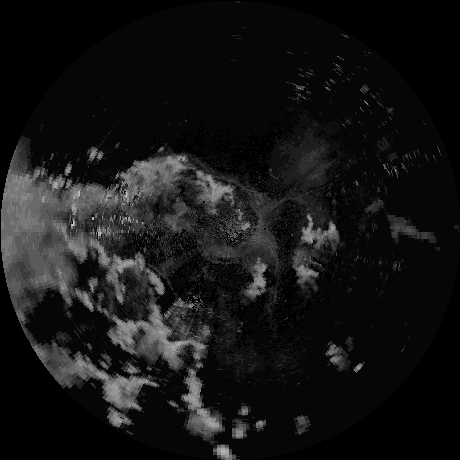frontgust: (209, 173, 257, 199), (149, 264, 177, 292), (267, 256, 280, 306)
